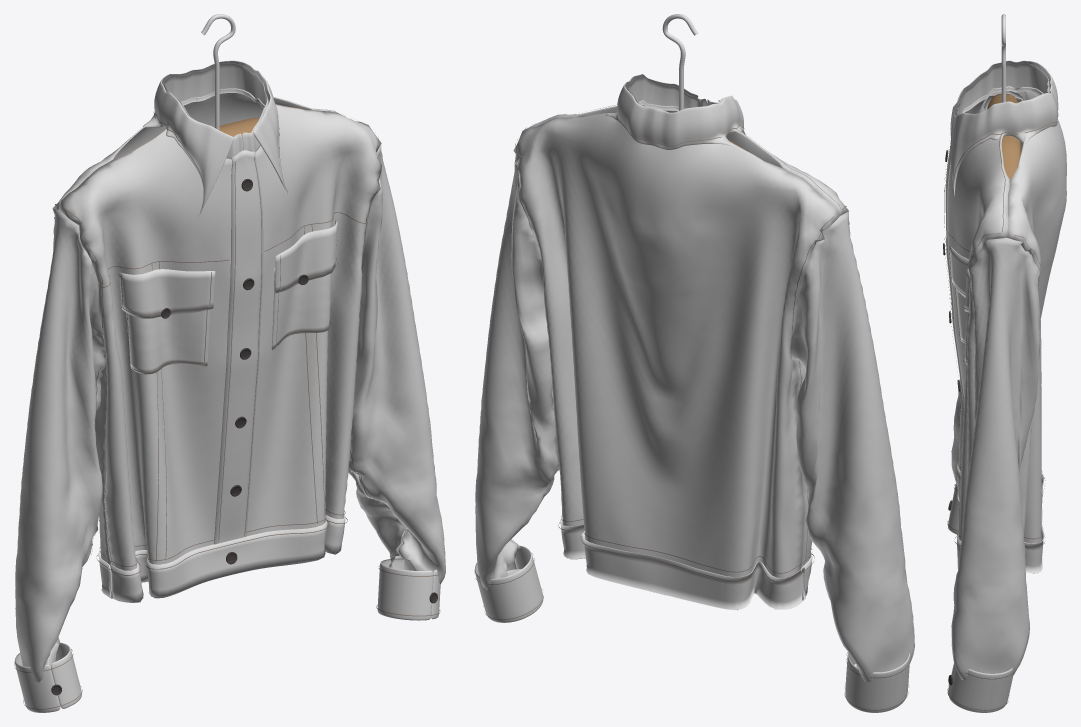
File: trucker.glb
The picture shows the model from 3 angles, left to right: view 1: azimuth 30°, elevation 25°; view 2: azimuth 150°, elevation 25°; view 3: azimuth 270°, elevation 25°; orthographic projection. The views are drawn at different scales.
Visible parts, largest first — view 1: cloth-trucker, stitch, hook, buttons; view 2: cloth-trucker, stitch, hook; view 3: cloth-trucker, stitch, hanger-wood, hook.
Part boxes in pixels (x1,y1,x2,y2): cloth-trucker: (14, 60, 445, 712); stitch: (14, 104, 440, 709); hook: (201, 14, 235, 129); buttons: (226, 179, 254, 564); cloth-trucker: (474, 74, 914, 712); stitch: (474, 105, 910, 710); hook: (662, 14, 697, 110); cloth-trucker: (945, 60, 1066, 712); stitch: (944, 113, 1058, 710); hanger-wood: (987, 94, 1021, 180); hook: (1001, 14, 1005, 102).
Size of the model in its own units: 0.5743 by 0.8369 by 0.1551.
